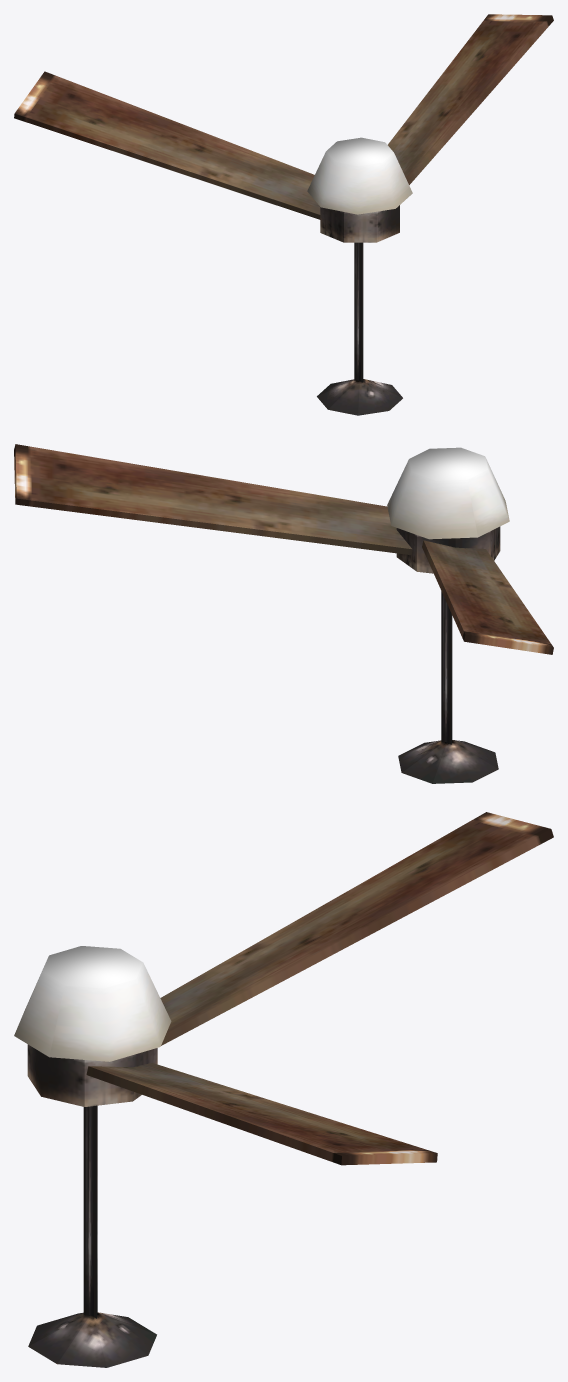
File: fan_broken3.fbx
3 renders of one model, top to bottom at view 1: azimuth 30°, elevation 25°; view 2: azimuth 150°, elevation 25°; view 3: azimuth 270°, elevation 25°, orthographic. The views are drawn at different scales.
Visible parts, largest first — view 1: mesh_0, mesh_1; view 2: mesh_0, mesh_1; view 3: mesh_0, mesh_1.
Boxes of the visible parts, left/top/right/bottom form: mesh_0: left=14, top=14, right=553, bottom=242; mesh_1: left=307, top=137, right=412, bottom=415; mesh_0: left=14, top=444, right=553, bottom=654; mesh_1: left=387, top=447, right=509, bottom=783; mesh_0: left=27, top=812, right=553, bottom=1165; mesh_1: left=14, top=946, right=171, bottom=1367.
Bounding box in the file's own units: 132 × 65.65 × 82.5.
Materials: 1 (1 with a texture image).
